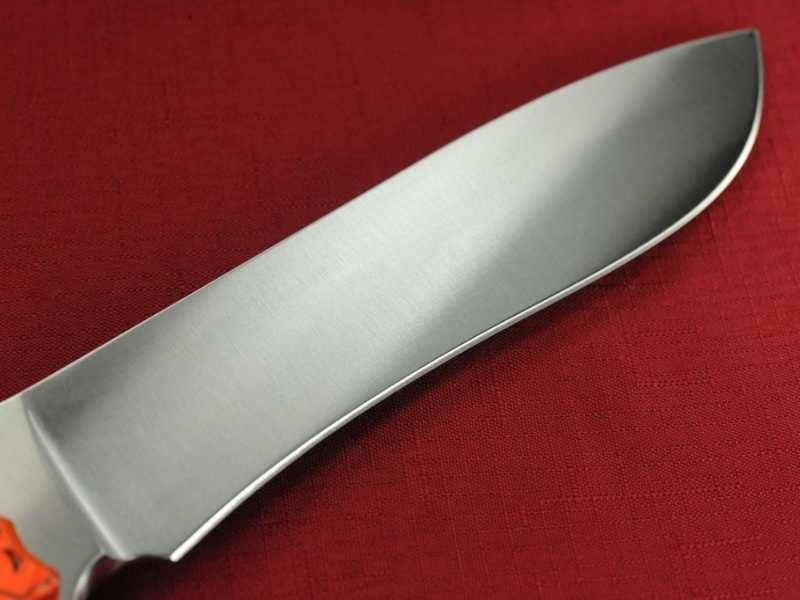knife: (1, 24, 770, 598)
